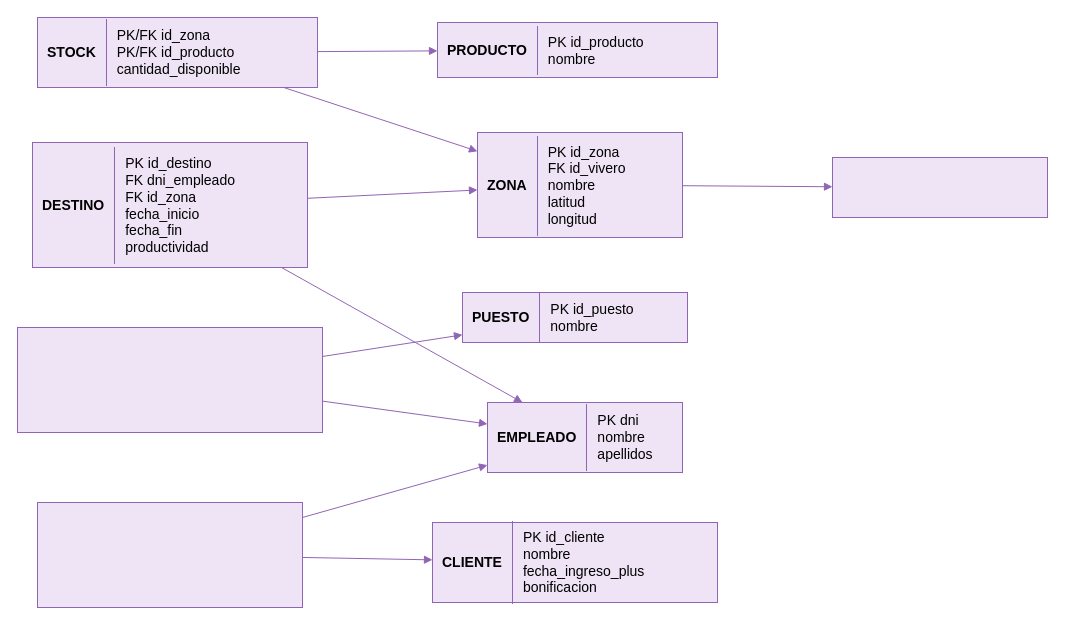
Some shapes in this 1065 by 625 pixel diagram are drawn without their labels. Here are the shapes that lost their labels. From the top down, the centre of each, then its label:
(940,187): VIVERO PK id_vivero latitud longitud
(169,379): DESEMPENA PK id_desempena FK dni_empleado FK id_puesto fecha_inicio fecha_fin
(169,555): PEDIDO PK id_pedido FK id_cliente FK dni_empleado fecha importe_total
